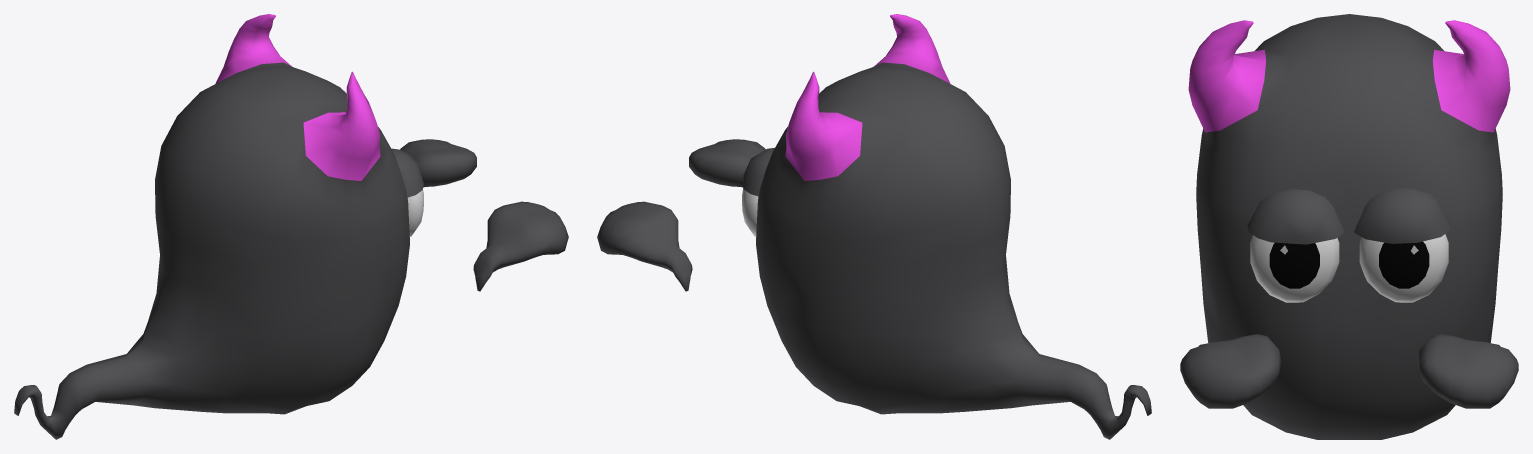
File: GhostEYELID 1.fbx
3 views of the same model, side by side, from view 1: azimuth 30°, elevation 25°; view 2: azimuth 150°, elevation 25°; view 3: azimuth 270°, elevation 25° (orthographic). The views are drawn at different scales.
Visible parts, largest first — view 1: Ghost.003, Sphere.005, Ghost.005; view 2: Ghost.003, Sphere.004, Ghost.005; view 3: Ghost.003, Ghost.005, Sphere.004, Sphere.005.
Part boxes in pixels (box(x1,y1,x2,y2)): Ghost.003: box(14, 14, 568, 439); Sphere.005: box(391, 148, 423, 197); Ghost.005: box(407, 189, 423, 236); Ghost.003: box(597, 14, 1151, 439); Sphere.004: box(743, 148, 774, 196); Ghost.005: box(742, 188, 758, 236); Ghost.003: box(1180, 14, 1518, 439); Ghost.005: box(1250, 234, 1448, 302); Sphere.004: box(1354, 188, 1451, 243); Sphere.005: box(1247, 189, 1344, 244).
Size of the model in its own units: 532 by 353 by 248.
